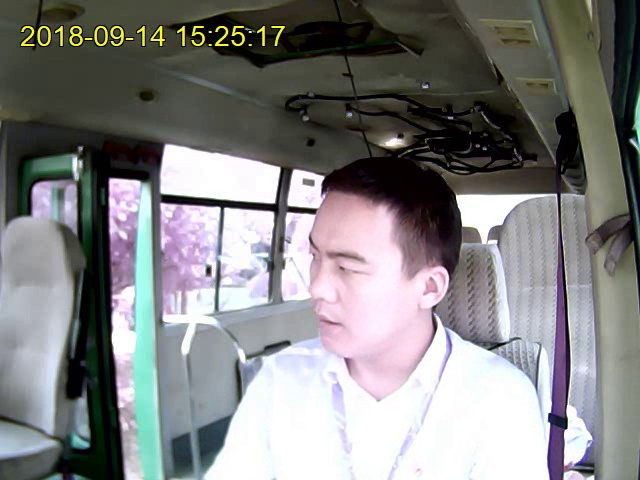closed_mouth: (312, 312, 346, 336)
